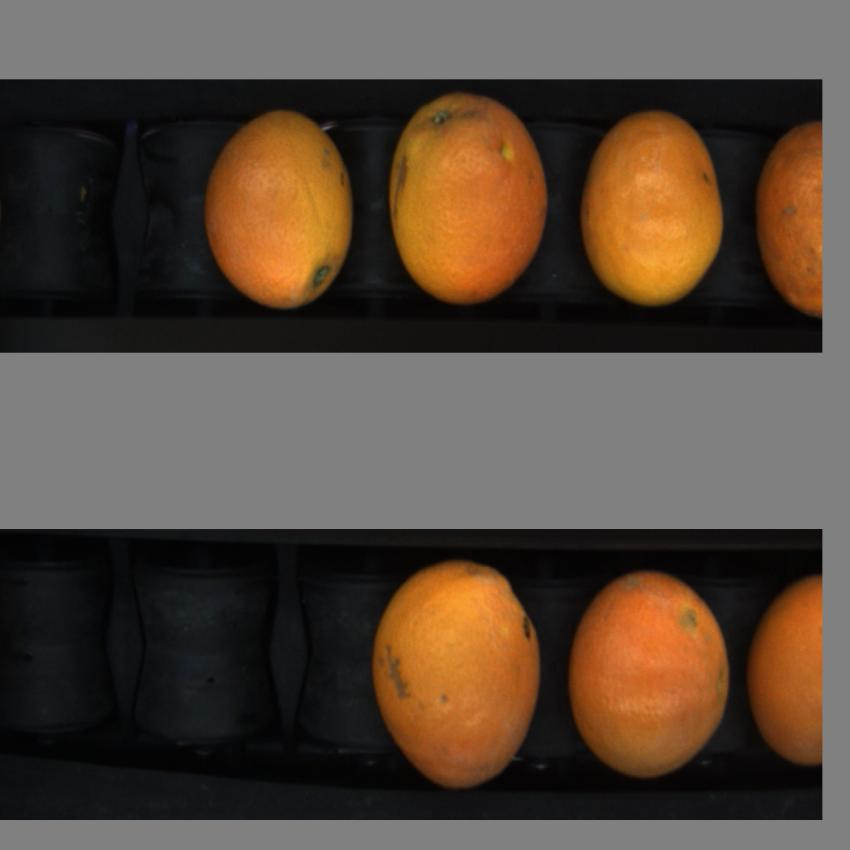Buen estado: (366, 546, 550, 798), (567, 559, 732, 789), (384, 96, 558, 302), (198, 108, 359, 320), (578, 106, 726, 308), (742, 568, 820, 789)
Mal estado: (740, 111, 822, 327)
